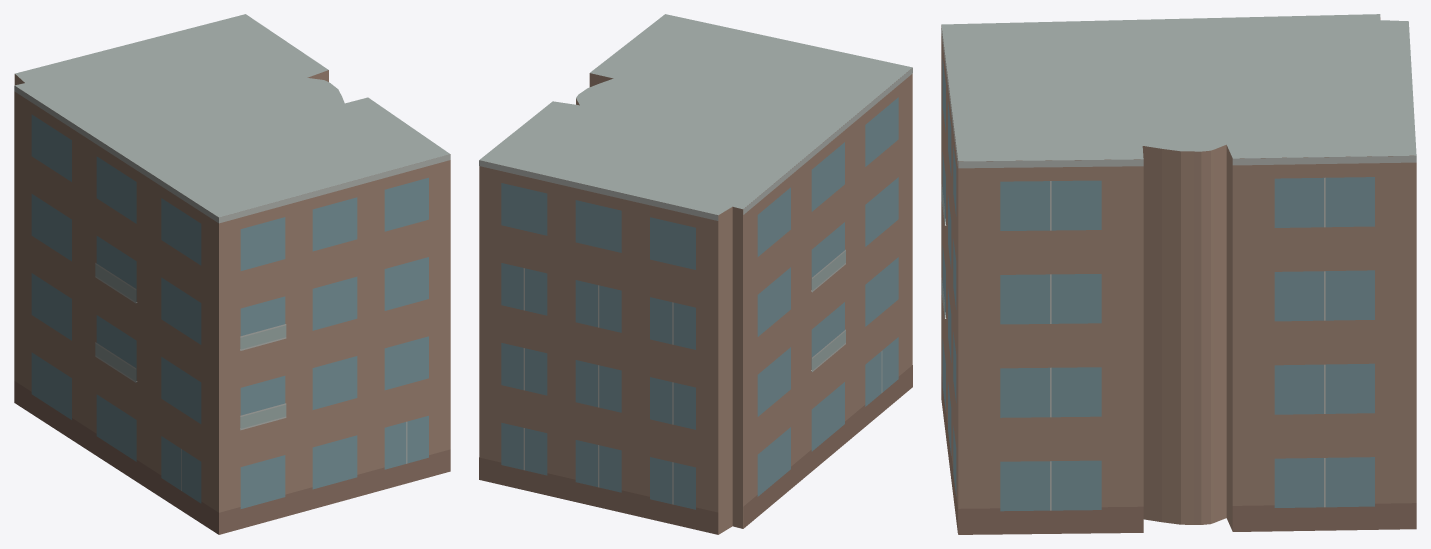
File: survey-upis-33013347.glb
The picture shows the model from 3 angles, left to right: view 1: azimuth 30°, elevation 25°; view 2: azimuth 150°, elevation 25°; view 3: azimuth 270°, elevation 25°; orthographic projection. The views are drawn at different scales.
Parts seen in each view (by area): view 1: survey-upis-33013347.tmp; view 2: survey-upis-33013347.tmp; view 3: survey-upis-33013347.tmp.
Part boxes in pixels (left/top/right/bottom): survey-upis-33013347.tmp: left=14, top=14, right=450, bottom=534; survey-upis-33013347.tmp: left=479, top=14, right=912, bottom=534; survey-upis-33013347.tmp: left=941, top=14, right=1416, bottom=534.
Size of the model in its own units: 11.19 by 13.2 by 15.24.
